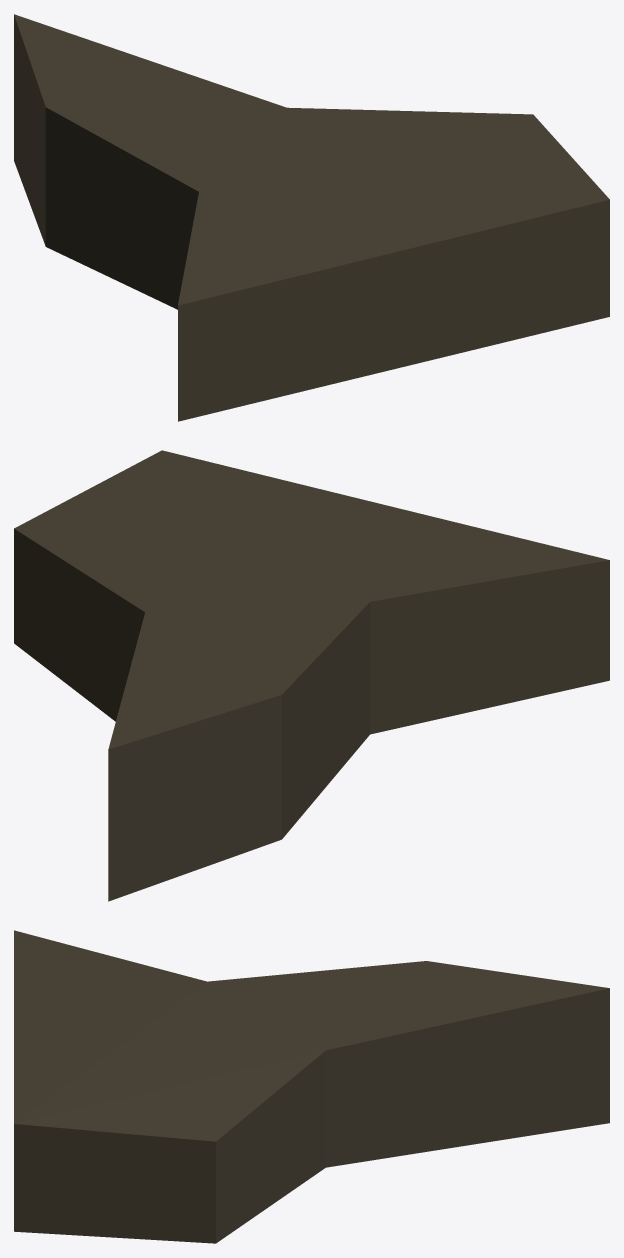
File: EVT_CASTEL_FLOOR_5.OBJ
3 views of the same model, one above another, from view 1: azimuth 30°, elevation 25°; view 2: azimuth 150°, elevation 25°; view 3: azimuth 270°, elevation 25° (orthographic). The views are drawn at different scales.
Parts seen in each view (by area): view 1: EVT_CASTEL_FLOOR_5; view 2: EVT_CASTEL_FLOOR_5; view 3: EVT_CASTEL_FLOOR_5.
Part boxes in pixels (bbox=[...]): EVT_CASTEL_FLOOR_5: bbox=[14, 14, 609, 421]; EVT_CASTEL_FLOOR_5: bbox=[14, 450, 609, 901]; EVT_CASTEL_FLOOR_5: bbox=[14, 930, 609, 1243].
Bounding box in the file's own units: 3.12 × 0.9406 × 3.76.
